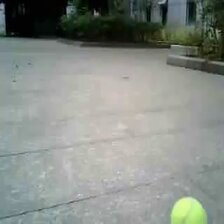tennis: (171, 197, 208, 224)
